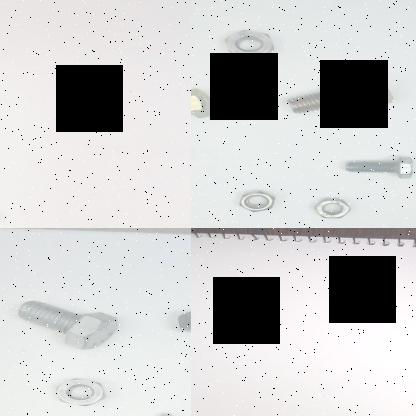Bolts: (277, 64, 401, 122), (16, 295, 126, 351), (337, 146, 416, 180), (191, 74, 222, 128), (106, 409, 176, 416)
NUTS: (214, 27, 282, 63), (54, 373, 108, 407), (310, 194, 362, 222), (236, 184, 280, 214), (172, 303, 191, 335)
